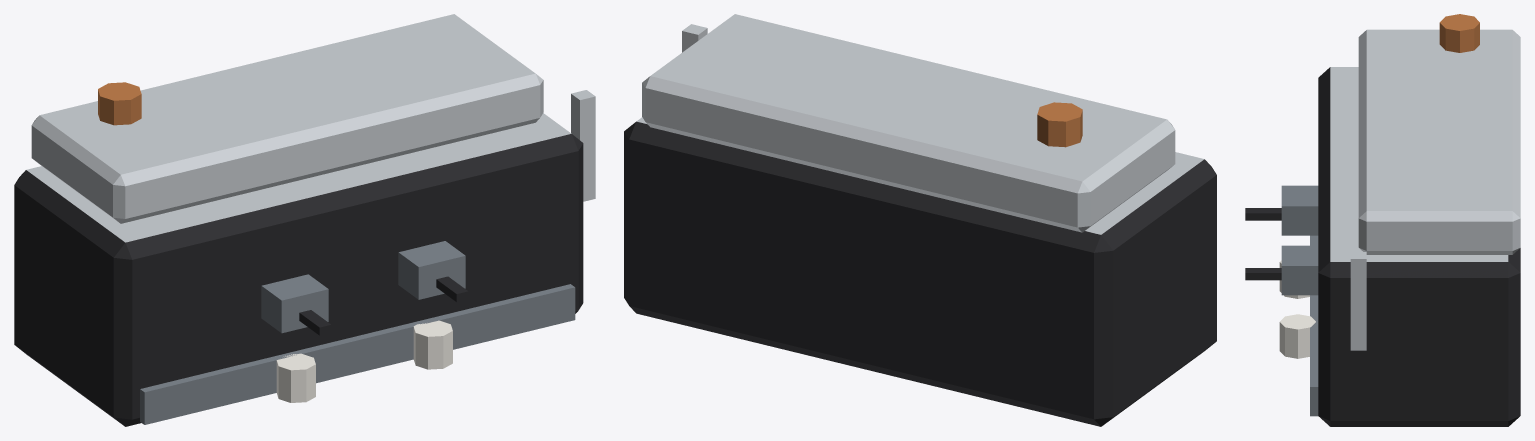
File: espresso_2.fbx
3 renders of one model, left to right at view 1: azimuth 30°, elevation 25°; view 2: azimuth 150°, elevation 25°; view 3: azimuth 270°, elevation 25°, orthographic. The views are drawn at different scales.
Visible parts, largest first — view 1: espresso_2; view 2: espresso_2; view 3: espresso_2.
Part boxes in pixels (x1=…): espresso_2: x1=14, y1=14, x2=595, y2=426; espresso_2: x1=624, y1=14, x2=1216, y2=426; espresso_2: x1=1245, y1=14, x2=1520, y2=426.
Bounding box in the file's own units: 1.26 × 0.65 × 0.68.
